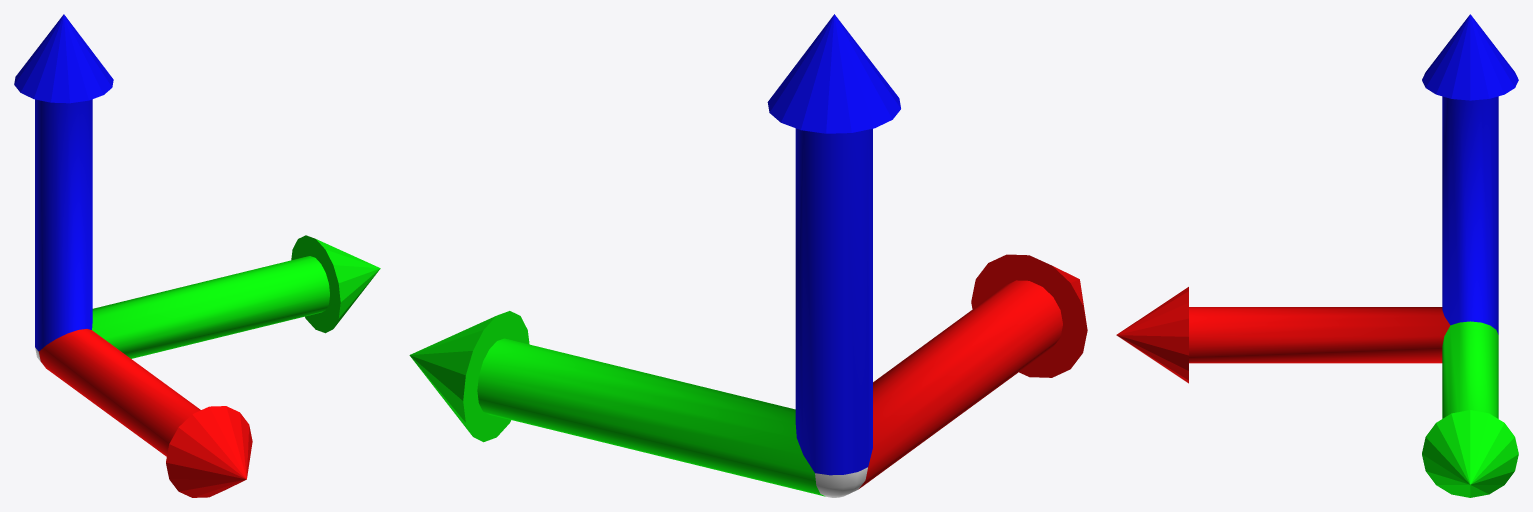
File: Translation.fbx
The picture shows the model from 3 angles, left to right: view 1: azimuth 30°, elevation 25°; view 2: azimuth 150°, elevation 25°; view 3: azimuth 270°, elevation 25°; orthographic projection. The views are drawn at different scales.
Visible parts, largest first — view 1: Trans_02 - Default_0.018; view 2: Trans_02 - Default_0.018; view 3: Trans_02 - Default_0.018.
Part boxes in pixels (left/top/right/bottom): Trans_02 - Default_0.018: left=14, top=14, right=380, bottom=497; Trans_02 - Default_0.018: left=409, top=14, right=1087, bottom=497; Trans_02 - Default_0.018: left=1116, top=14, right=1518, bottom=497.
Size of the model in its own units: 5637 by 5637 by 5637.
